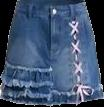Hemline: (1, 96, 103, 105)
Waistline: (17, 0, 84, 5)
